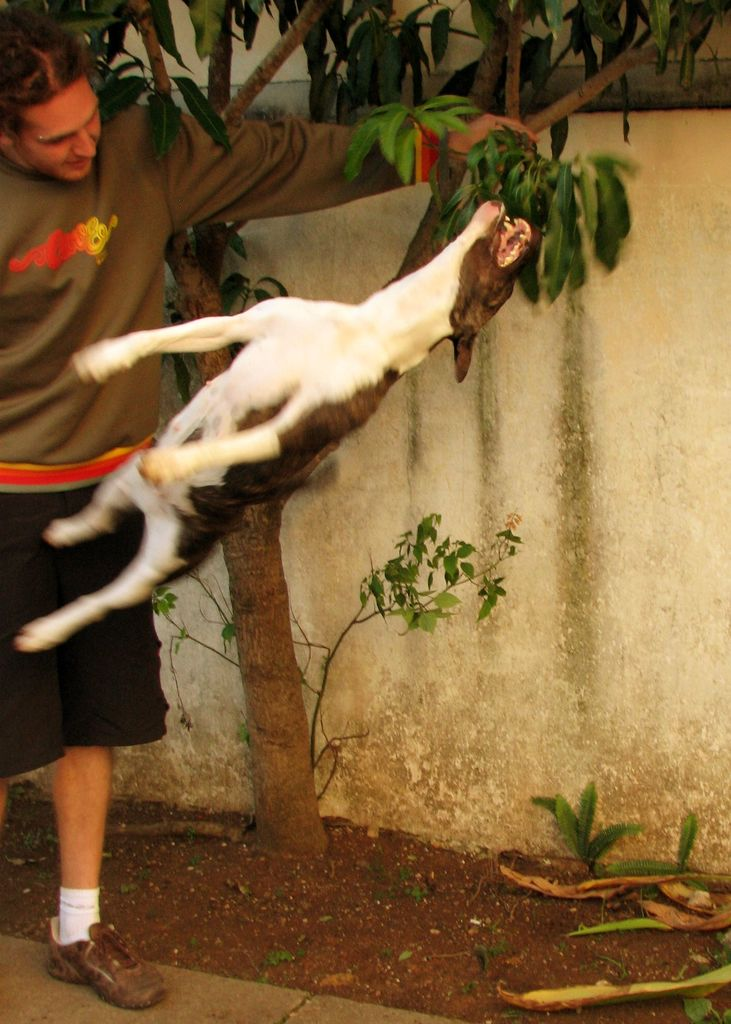Footwear: (36, 916, 179, 1018)
